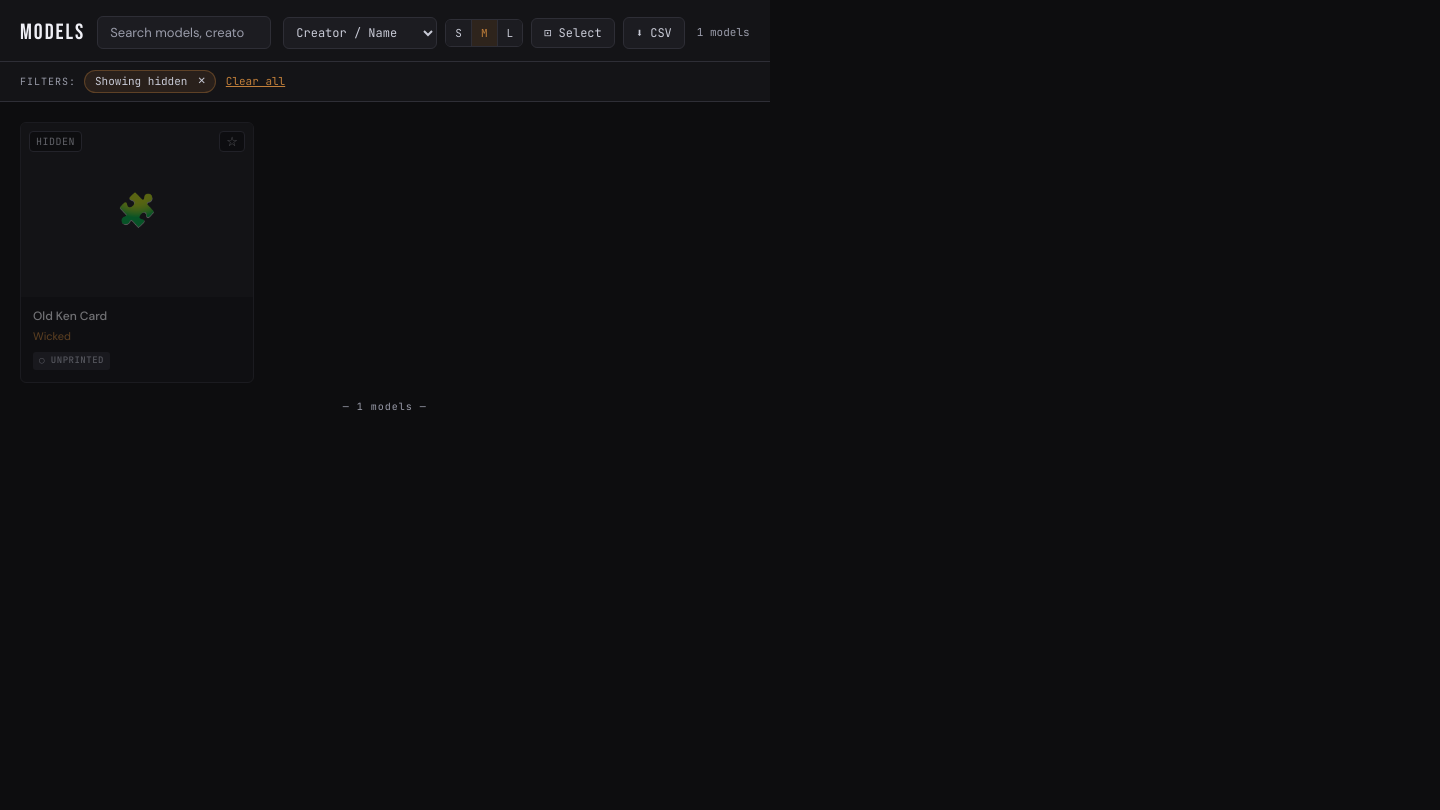
Test: folded rows › bulk unhide reports skipped folded cards
Expected: the text "Old Ken Card" is shown, [33,307,107,323]
Click the button "⊡ Select" at (573, 32), box [531,18,615,48]
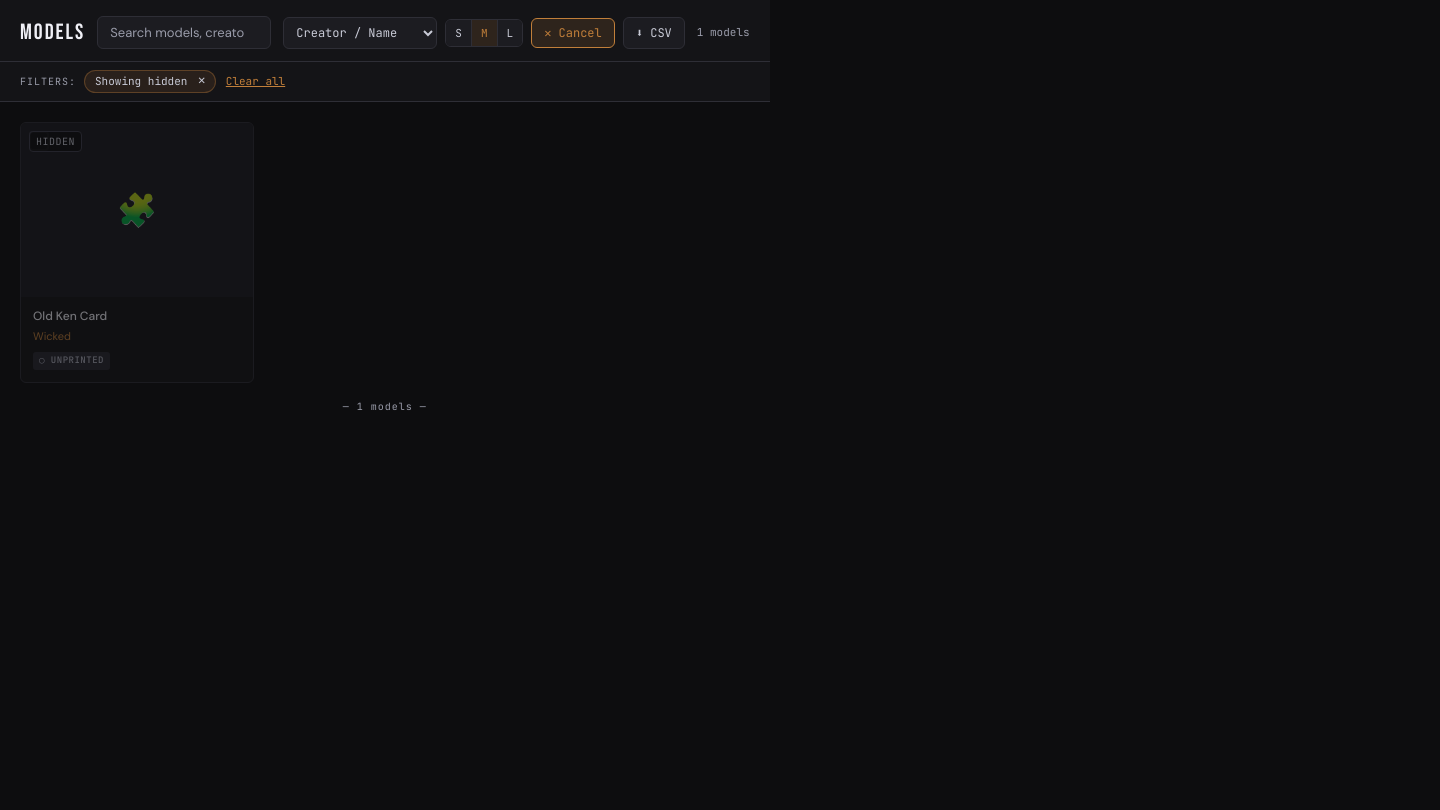
Click the button named "Select Old Ken Card" at (137, 252), box [21,122,253,381]
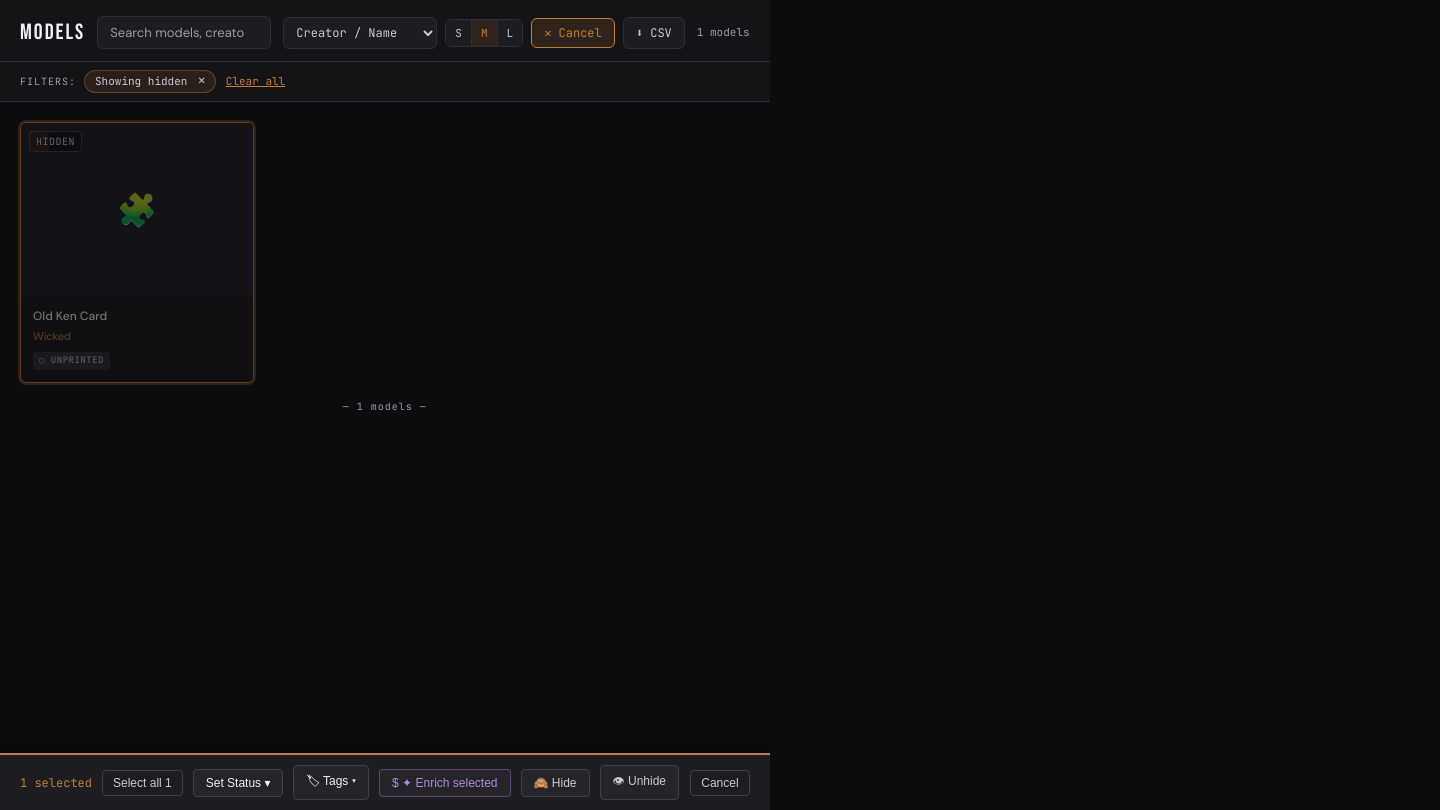
Click the button "👁 Unhide" at (639, 782), box [600,765,679,800]
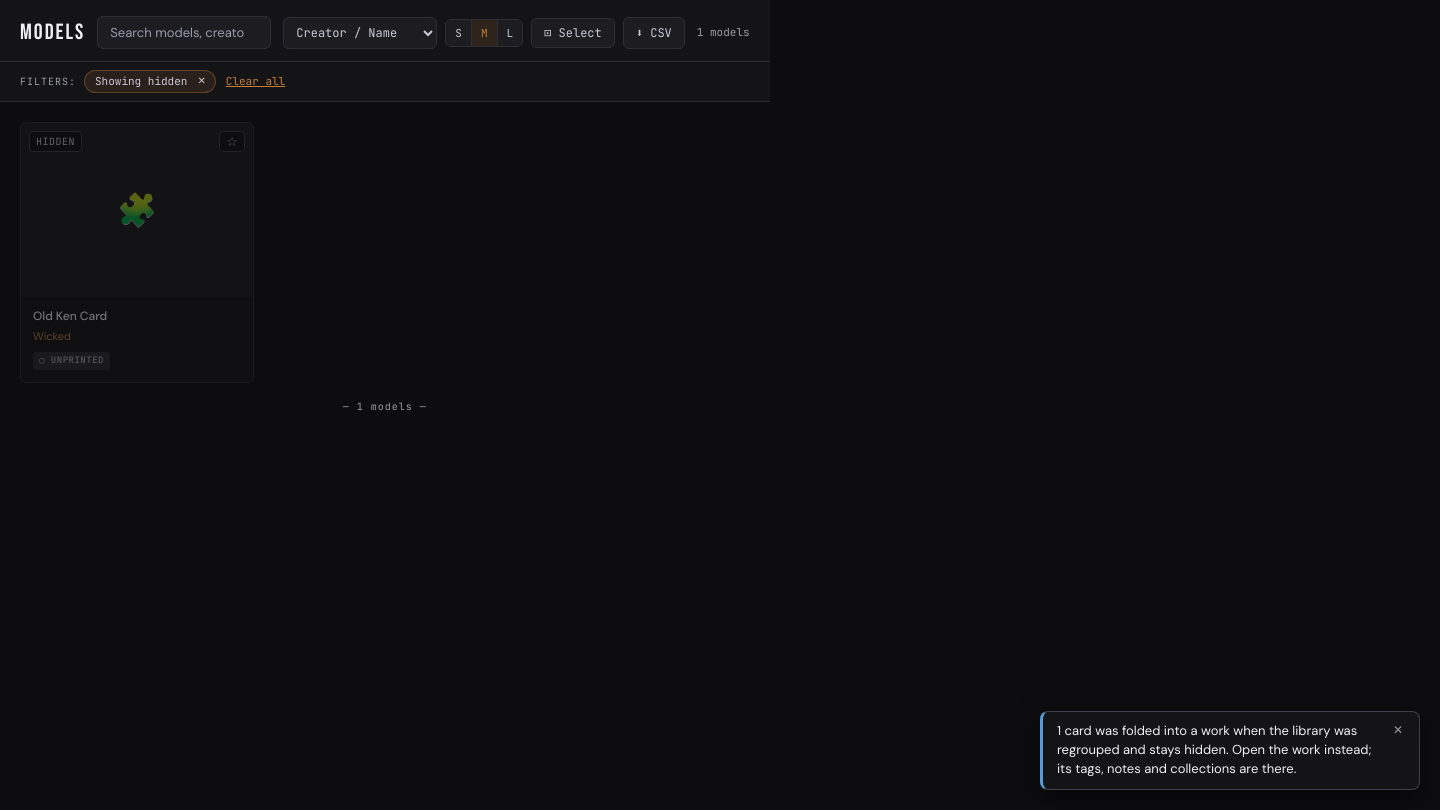
Expected: the text "1 card was folded into a work" is shown, [1057,722,1371,777]
